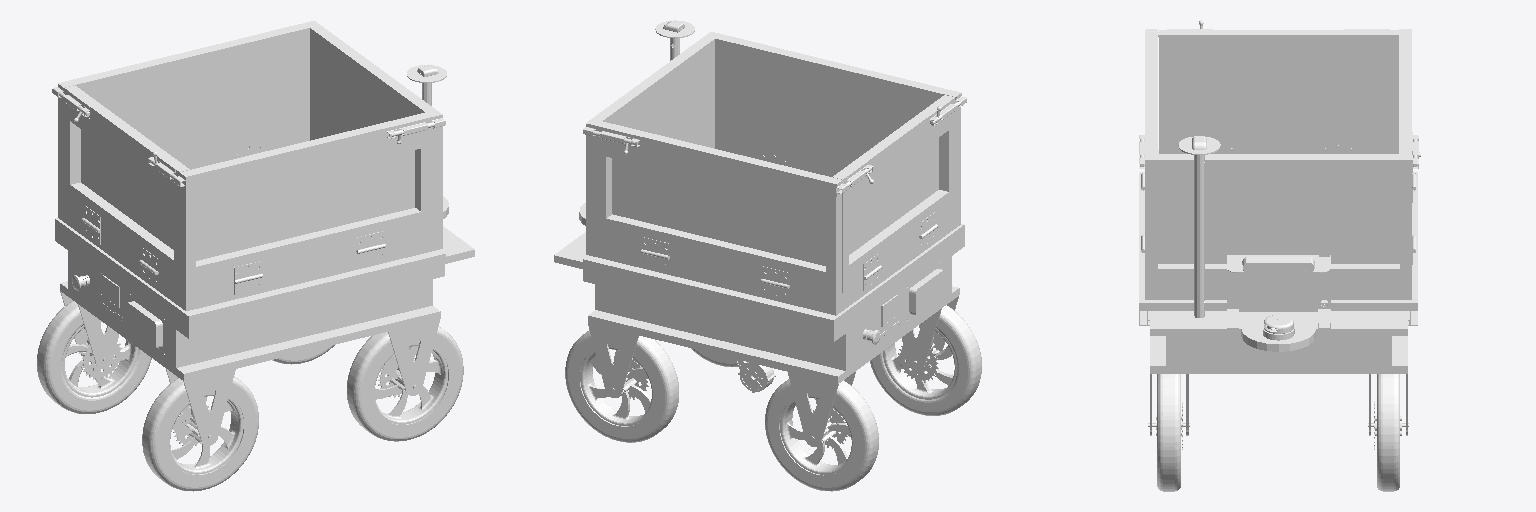
URDF robot description (uma_grover):
<?xml version="1.0" encoding="utf-8"?>
<!-- This URDF was automatically created by SolidWorks to URDF Exporter! Originally created by [author] ([email redacted]) 
     Commit Version: 1.5.1-0-g916b5db  Build Version: 1.5.7152.31018
     For more information, please see http://wiki.ros.org/sw_urdf_exporter -->

<!-- - - - - - - -B A S E  L I N K - - - - - - -->
<robot
  name="uma_grover">
  <!-- A dummy link to avoid KDL error  -->
  <link name="base_link"/>
  <joint name="dummy joint" type="fixed">
    <origin rpy="0 0 1.5708" xyz="0.31 -0.31 0.1"/>
    <parent link="base_link"/>
    <child  link="chassis_link"/>
  </joint>


<!-- - - - - - - -C H A S S I S   L I N K - - - - - - -->
  <link
    name="chassis_link">
    <inertial>
      <origin
        xyz="0.31559 0.47833 0.020331"
        rpy="0 0 0" />
      <mass
        value="13.426" />
      <inertia
        ixx="0.66915"
        ixy="-0.00029562"
        ixz="0.00025707"
        iyy="0.45433"
        iyz="0.028588"
        izz="1.0116" />
    </inertial>
    <visual>
      <origin
        xyz="0 0 0"
        rpy="0 0 0" />
      <geometry>
        <mesh
          filename="package://uma_grover/meshes/base_link.STL" />
      </geometry>
      <material
        name="">
        <color
          rgba="1 1 1 1" />
      </material>
    </visual>
    <collision>
      <origin
        xyz="0 0 0"
        rpy="0 0 0" />
      <geometry>
        <mesh
          filename="package://uma_grover/meshes/base_link.STL" />
      </geometry>
    </collision>
  </link>
  
  <gazebo reference="chassis_link"> 
      <material>Gazebo/Gold</material>
  </gazebo>
  
   <!-- - - - - - - -R T K- - - - - - - -->
  <link
    name="rtk_Link">
    <inertial>
      <origin
        xyz="0.021466 -0.0067342 0.0175"
        rpy="0 0 0" />
      <mass
        value="0.020772" />
      <inertia
        ixx="2.2848E-06"
        ixy="-1.2777E-07"
        ixz="3.1102E-12"
        iyy="5.2015E-06"
        iyz="7.4023E-13"
        izz="3.5958E-06" />
    </inertial>
    <visual>
      <origin
        xyz="0 0 0"
        rpy="-1.5708 0 0" />
      <geometry>
        <mesh
          filename="package://uma_grover/meshes/rtk_Link.STL" />
      </geometry>
      <material
        name="">
        <color
          rgba="1 1 1 1" />
      </material>
    </visual>
    <collision>
      <origin
        xyz="0 0 0"
        rpy="0 0 1.5708" />
      <geometry>
        <mesh
          filename="package://uma_grover/meshes/rtk_Link.STL" />
      </geometry>
    </collision>
  </link>
  
  <joint
    name="rtk_joint"
    type="fixed">
    <origin
      xyz="0.1025 0.088 0.47318"
      rpy="0 0 -1.5708" />
    <parent
      link="chassis_link" />
    <child
      link="rtk_Link" />
    <axis
      xyz="0 0 0" />
  </joint>
   <gazebo reference="rtk_Link"> <!--Color for the link -->
      <material>Gazebo/Grey</material>
  </gazebo>
  
  <plugin name="novatel_gps_sim" filename="libhector_gazebo_ros_gps.so">
    <!-- To use this plugin you ned to have installed http://wiki.ros.org/hector_gazebo_plugins   sudo apt-get install ros-melodic-hector-gazebo-plugins -->
    <alwaysOn>1</alwaysOn>
    <updateRate>10.0</updateRate>
    <bodyName>rtk_Link</bodyName>
    <topicName>fix</topicName>
    <velocityTopicName>fix_velocity</velocityTopicName>
    <drift>5.0 5.0 5.0</drift>
    <gaussianNoise>0.1 0.1 0.1</gaussianNoise>
    <velocityDrift>0 0 0</velocityDrift>
    <velocityGaussianNoise>0.1 0.1 0.1</velocityGaussianNoise>
    <!-- coordinates for itesm campus will be considered as the 
    center of gazebo world lat: 20.614414,long:  -100.403293-->
    <referenceLatitude>20.614414</referenceLatitude>
    <referenceLongitude>-100.403293</referenceLongitude>
  </plugin>
  
  
  <!-- - - - - - - -L I D A R- - - - - - - -->
  <link
    name="lidar_Link">
    <inertial>
      <origin
        xyz="-1.0308E-06 0.019482 -0.00063718"
        rpy="0 0 0" />
      <mass
        value="0.16704" />
      <inertia
        ixx="6.0869E-05"
        ixy="-1.4035E-11"
        ixz="4.272E-09"
        iyy="0.00011279"
        iyz="2.286E-08"
        izz="6.3108E-05" />
    </inertial>
    <visual>
      <origin
        xyz="0 0 -0.03"
        rpy="1.5708 0 0.67324" />
      <geometry>
        <mesh
          filename="package://uma_grover/meshes/lidar_Link.STL" />
      </geometry>
      <material
        name="">
        <color
          rgba="1 1 1 1" />
      </material>
    </visual>
    <collision>
      <origin
        xyz="0 0 0"
        rpy="0 0 0" />
      <geometry>
        <mesh
          filename="package://uma_grover/meshes/lidar_Link.STL" />
      </geometry>
    </collision>
  </link>
  
  <joint
    name="lidar_joint"
    type="fixed">
    <origin
      xyz="0.31 -0.03 0.045"
      rpy="0 0 4.71239" />
    <parent
      link="chassis_link" />
    <child
      link="lidar_Link" />
    <axis
      xyz="0 1 0" />
  </joint>
  
  <gazebo reference="lidar_Link"> 
      <material>Gazebo/Grey</material>
  </gazebo>
  
   <!-- PLUG IN -->
   <gazebo reference="lidar_Link">
    <sensor type="ray" name="head_rplidar">
      <pose>-1.0308E-06 0.019482 0.05 0 0 0</pose>
      <visualize>false</visualize>
      <update_rate>15</update_rate><!--15 hz as the RP lidar-->
      <ray>
        <scan>
          <horizontal>
            <samples>16000</samples>
            <resolution>1</resolution>
            <min_angle>-1.9634954</min_angle>
            <max_angle>1.9634954</max_angle>
          </horizontal>
        </scan>
        <range>
          <min>0.055</min>
          <max>25.0</max>
          <resolution>0.01</resolution>
        </range>
        <noise>
          <type>gaussian</type>
          <mean>0.0</mean>
          <stddev>0.01</stddev>
        </noise>
      </ray>
      <plugin name="gazebo_ros_head_hokuyo_controller" filename="libgazebo_ros_laser.so">
        <topicName>/base_scan</topicName>
        <frameName>lidar_Link</frameName>
      </plugin>
    </sensor>
   </gazebo>

  
  
  <!-- - - - - - - -C A M E R A- - - - - - - -->
  <link
    name="camera_Link">
    <inertial>
      <origin
        xyz="-5.2097E-07 4.3931E-06 0.015472"
        rpy="0 0 0" />
      <mass
        value="0.15269" />
      <inertia
        ixx="2.2826E-05"
        ixy="1.0933E-12"
        ixz="1.2627E-09"
        iyy="0.00037615"
        iyz="-2.3463E-09"
        izz="0.00037417" />
    </inertial>
    <visual>
      <origin
        xyz="-5.2097E-07 4.3931E-06 0.00015472"
        rpy="1.5707963268 0 1.5707963268" />
      <geometry>
        <mesh
          filename="package://uma_grover/meshes/camera_Link.STL" />
      </geometry>
      <material
        name="">
        <color
          rgba="1 1 1 1" />
      </material>
    </visual>
    <collision>
      <origin
        xyz="0 0 0"
        rpy="0 0 0" />
      <geometry>
        <mesh
          filename="package://uma_grover/meshes/camera_Link.STL" />
      </geometry>
    </collision>
  </link>
  
  <joint
    name="camera_joint"
    type="fixed">
    <origin 
      xyz="0.31 0.02050 0.18549"
      rpy="6.28319 0 4.71239" />
    <parent
      link="chassis_link" />
    <child
      link="camera_Link" />
    <axis
      xyz="0 0 0" />
  </joint>
  <gazebo reference="camera_Link"> <!--Color for the link -->
      <material>Gazebo/Black</material>
  </gazebo>
  
  <!-- Transmission camera -->
  <transmission name="camera1_tran">
    <type>transmission_interface/SimpleTransmission</type>
    <joint name="camera_joint">
      <hardwareInterface>hardware_interface/EffortJointInterface</hardwareInterface>
    </joint>
    <actuator name="motor_camera">
      <hardwareInterface>hardware_interface/EffortJointInterface</hardwareInterface>
      <mechanicalReduction>1</mechanicalReduction>
    </actuator>
  </transmission>
  
  <!-- Plugin for the camera -->
   <gazebo reference="camera_Link">
    <sensor type="camera" name="camera">
      <update_rate>15.0</update_rate>
      <camera name="camera">
        <horizontal_fov>1.3962634</horizontal_fov>
        <image>
          <width>2208</width>
          <height>1242</height>
          <format>R8G8B8</format>
        </image>
        <clip>
          <near>0.02</near>
          <far>300</far>
        </clip>
        <noise>
          <type>gaussian</type>
          <!-- Noise is sampled independently per pixel on each frame.
               That pixel's noise value is added to each of its color
               channels, which at that point lie in the range [0,1]. -->
          <mean>0.0</mean>
          <stddev>0.007</stddev>
        </noise>
      </camera>
      <plugin name="camera1_controller" filename="libgazebo_ros_camera.so">
        <alwaysOn>true</alwaysOn>
        <updateRate>0.0</updateRate>
        <cameraName>uma_robot/camera1</cameraName>
        <imageTopicName>image_raw</imageTopicName>
        <cameraInfoTopicName>camera_info</cameraInfoTopicName>
        <frameName>camera_Link</frameName>
        <hackBaseline>0.0</hackBaseline>
        <distortionK1>0.0</distortionK1>
        <distortionK2>0.0</distortionK2>
        <distortionK3>0.0</distortionK3>
        <distortionT1>0.0</distortionT1>
        <distortionT2>0.0</distortionT2>
      </plugin>
    </sensor>
  </gazebo>
 
  <!-- - - - - - - -Front Right Wheel- - - - - - - -->
  <link
    name="wfr_Link">
    <inertial>
      <origin
        xyz="-1.3865E-10 -3.3016E-11 0.031947"
        rpy="0 0 0" />
      <mass
        value="2.7527" />
      <inertia
        ixx="0.023548"
        ixy="-1.2444E-11"
        ixz="1.4726E-11"
        iyy="0.023548"
        iyz="2.9649E-12"
        izz="0.045774" />
    </inertial>
    <surface>
      <friction>
        <ode>
          <mu>0.03</mu>
          <mu2>0.03</mu2>
        </ode>
      </friction>
    </surface>
    <visual>
      <origin
        xyz="0 0 0"
        rpy="0 0 0" />
      <geometry>
        <mesh
          filename="package://uma_grover/meshes/wfr_Link.STL" />
      </geometry>
      <material
        name="">
        <color
          rgba="1 1 1 1" />
      </material>
    </visual>
    <collision>
      <origin
        xyz="0 0 0"
        rpy="0 0 0" />
      <geometry>
        <mesh
          filename="package://uma_grover/meshes/wfr_Link.STL" />
      </geometry>
    </collision>
  </link>
  
  <joint
    name="wfr_joint"
    type="continuous">
    <origin
      xyz="0.015 0.175 -0.318"
      rpy="-1.5708 1.1054 -1.5708" />
    <parent
      link="chassis_link" />
    <child
      link="wfr_Link" />
    <axis
      xyz="0 0 1" />
  </joint>
  <gazebo reference="wfr_Link"> <!--Color for the link -->
      <material>Gazebo/Black</material>
  </gazebo>
  
   <!-- - - - - - - -Front Left Wheel- - - - - - - -->
  <link
    name="wfl_Link">
    <inertial>
      <origin
        xyz="-1.34571326304567E-10 -3.09736680748074E-11 -0.0342534298973123"
        rpy="0 0 0" />
      <mass
        value="2.75271056507197" />
      <inertia
        ixx="0.0235478041938839"
        ixy="-1.2155146247167E-11"
        ixz="1.47982060786702E-11"
        iyy="0.0235478042081284"
        iyz="3.10652450880572E-12"
        izz="0.0457737759766504" />
    </inertial>
    <surface>
       <friction>
         <ode>
           <mu>0.03</mu>
           <mu2>0.03</mu2>
         </ode>
       </friction>
     </surface>
    <visual>
      <origin
        xyz="0 0 0"
        rpy="0 0 0" />
      <geometry>
        <mesh
          filename="package://uma_grover/meshes/wfl_Link.STL" />
      </geometry>
      <material
        name="">
        <color
          rgba="1 1 1 1" />
      </material>
    </visual>
    <collision>
      <origin
        xyz="0 0 0"
        rpy="0 0 0" />
      <geometry>
        <mesh
          filename="package://uma_grover/meshes/wfl_Link.STL" />
      </geometry>
    </collision>
  </link>
  
  <joint
    name="wfl_joint"
    type="continuous">
    <origin
      xyz="0.5388 0.175 -0.318"
      rpy="1.5708 0.27909 -1.5708" />
    <parent
      link="chassis_link" />
    <child
      link="wfl_Link" />
    <axis
      xyz="0 0 -1" />
  </joint>
  <gazebo reference="wfl_Link"> <!--Color for the link -->
      <material>Gazebo/Black</material>
  </gazebo>
  
  <!-- - - - - - - -Back Right Wheel- - - - - - - -->
  <link
    name="wbr_Link">
    <inertial>
      <origin
        xyz="-1.35008892954147E-10 -3.01970670690821E-11 0.0319465707453435"
        rpy="0 0 0" />
      <mass
        value="2.75271056498788" />
      <inertia
        ixx="0.0235478041937481"
        ixy="-1.18664951996583E-11"
        ixz="1.48698552739228E-11"
        iyy="0.0235478042078551"
        iyz="3.24809109605935E-12"
        izz="0.045773775976206" />
    </inertial>
    <visual>
      <origin
        xyz="0 0 0"
        rpy="0 0 0" />
      <geometry>
        <mesh
          filename="package://uma_grover/meshes/wbr_Link.STL" />
      </geometry>
      <material
        name="">
        <color
          rgba="1 1 1 1" />
      </material>
    </visual>
    <collision>
      <origin
        xyz="0 0 0"
        rpy="0 0 0" />
      <geometry>
        <mesh
          filename="package://uma_grover/meshes/wbr_Link.STL" />
      </geometry>
    </collision>
  </link>
  
  <joint
    name="wbr_joint"
    type="continuous">
    <origin
      xyz="0.015 0.765 -0.318"
      rpy="1.5708 0.33457 1.5708" />
    <parent
      link="chassis_link" />
    <child
      link="wbr_Link" />
    <axis
      xyz="0 0 1" />
  </joint>
  <gazebo reference="wbr_Link"> <!--Color for the link -->
      <material>Gazebo/Black</material>
  </gazebo>
  
  <!-- - - - - - - -Back Left Wheel- - - - - - - -->
  <link
    name="wbl_Link">
    <inertial>
      <origin
        xyz="-1.3682099897494E-10 -2.93262636397174E-11 -0.0342534294085115"
        rpy="0 0 0" />
      <mass
        value="2.75271056490378" />
      <inertia
        ixx="0.0235478041937591"
        ixy="-1.20703870889246E-11"
        ixz="1.47113843136334E-11"
        iyy="0.0235478042074349"
        iyz="3.2394094459067E-12"
        izz="0.0457737759757616" />
    </inertial>
    <visual>
      <origin
        xyz="0 0 0"
        rpy="0 0 0" />
      <geometry>
        <mesh
          filename="package://uma_grover/meshes/wbl_Link.STL" />
      </geometry>
      <material
        name="">
        <color
          rgba="1 1 1 1" />
      </material>
    </visual>
    <collision>
      <origin
        xyz="0 0 0"
        rpy="0 0 0" />
      <geometry>
        <mesh
          filename="package://uma_grover/meshes/wbl_Link.STL" />
      </geometry>
    </collision>
  </link>
  
  <joint
    name="wbl_joint"
    type="continuous">
    <origin
      xyz="0.5388 0.765 -0.318"
      rpy="-1.5708 0.012365 1.5708" />
    <parent
      link="chassis_link" />
    <child
      link="wbl_Link" />
    <axis
      xyz="0 0 -1" />
  </joint>
  <gazebo reference="wbl_Link"> 
      <material>Gazebo/Black</material>
  </gazebo>
  
  
  <gazebo>
     <plugin name="skid_steer_drive_controller" filename="libgazebo_ros_skid_steer_drive.so">
       <updateRate>100.0</updateRate>
       <robotNamespace>/</robotNamespace>
       <leftFrontJoint>wfl_joint</leftFrontJoint>
       <rightFrontJoint>wfr_joint</rightFrontJoint>
       <leftRearJoint>wbl_joint</leftRearJoint>
       <rightRearJoint>wbr_joint</rightRearJoint>
       <wheelSeparation>0.46935</wheelSeparation>
       <wheelDiameter>0.3175</wheelDiameter>
       <publishWheelTF>true</publishWheelTF>
       <robotBaseFrame>base_footprint</robotBaseFrame>
       <torque>80</torque>
       <topicName>cmd_vel</topicName>
       <commandTopic>cmd_vel</commandTopic>
       <odometryTopic>odom</odometryTopic>
       <odometryFrame>odom</odometryFrame>
       <broadcastTF>true</broadcastTF>
       <covariance_x>0.000100</covariance_x>
       <covariance_y>0.000100</covariance_y>
       <covariance_yaw>0.1000</covariance_yaw>
     </plugin>
  </gazebo>
  
</robot>

--- Render facts (derived) ---
3 views of the same robot in one strip: view 1: azimuth 30°, elevation 25°; view 2: azimuth 150°, elevation 25°; view 3: azimuth 270°, elevation 25° (orthographic).
Model uma_grover with 9 links and 8 joints (4 continuous, 4 fixed), rooted at base_link, posed every joint at zero.
Visible links, largest first — view 1: chassis_link, wfr_Link, wbr_Link, wbl_Link; view 2: chassis_link, wfl_Link, wbl_Link, wbr_Link; view 3: chassis_link, wfr_Link, wfl_Link, camera_Link, lidar_Link.
Boxes of the visible links, x1,y1,x2,y2 form: chassis_link: (52, 21, 474, 445); wfr_Link: (347, 327, 463, 441); wbr_Link: (142, 376, 258, 491); wbl_Link: (37, 301, 151, 413); chassis_link: (554, 20, 966, 446); wfl_Link: (565, 330, 678, 442); wbl_Link: (765, 379, 878, 491); wbr_Link: (870, 305, 981, 415); chassis_link: (1139, 20, 1420, 435); wfr_Link: (1156, 374, 1182, 491); wfl_Link: (1374, 374, 1401, 491); camera_Link: (1242, 257, 1314, 272); lidar_Link: (1263, 315, 1294, 340).
Size in the robot's own frame: 1.01 by 0.678 by 0.9645 metres.
8 mesh visuals loaded from 8 distinct referenced files (8 binary STL).
